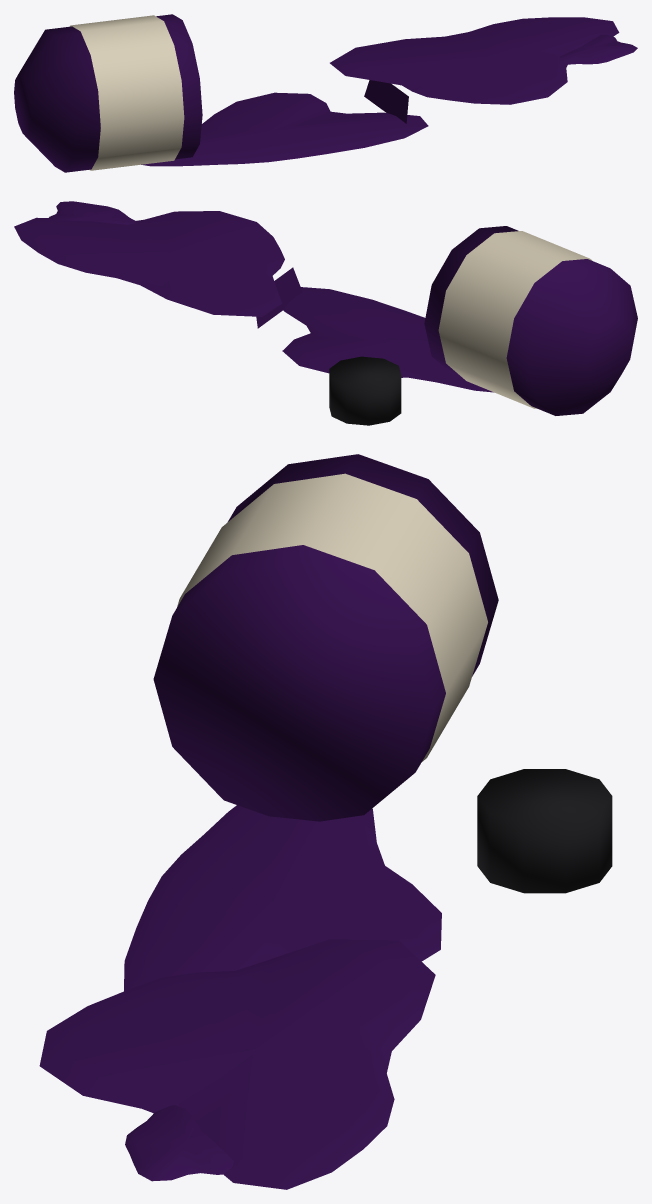
File: blot_spawn.glb
3 renders of one model, top to bottom at view 1: azimuth 30°, elevation 25°; view 2: azimuth 150°, elevation 25°; view 3: azimuth 270°, elevation 25°, orthographic. The views are drawn at different scales.
Visible parts, largest first — view 1: blot_spawn; view 2: blot_spawn; view 3: blot_spawn.
Boxes of the visible parts, bbox=[...] form: blot_spawn: bbox=[14, 14, 637, 172]; blot_spawn: bbox=[14, 201, 637, 425]; blot_spawn: bbox=[39, 454, 612, 1189].
Bounding box in the file's own units: 2.75 × 0.61 × 1.19.
